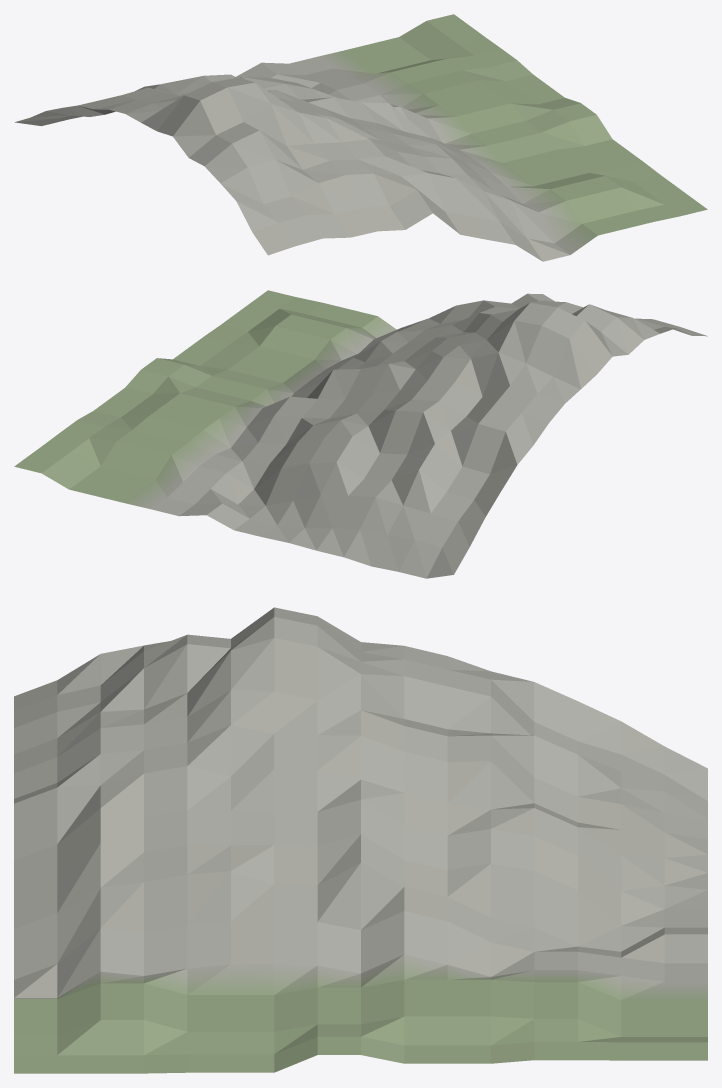
3 views of the same model, one above another, from view 1: azimuth 30°, elevation 25°; view 2: azimuth 150°, elevation 25°; view 3: azimuth 270°, elevation 25° (orthographic). The views are drawn at different scales.
Bounding box in the file's own units: 32 × 11.01 × 32.
